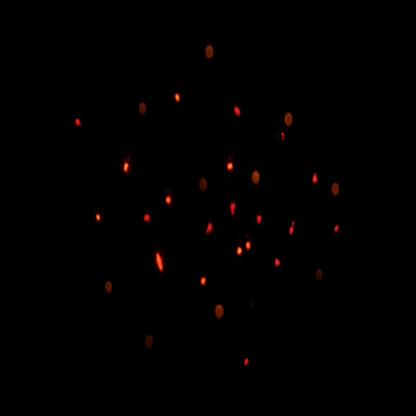PET: (227, 197, 246, 223), (285, 219, 307, 239), (140, 206, 156, 232), (330, 220, 345, 246), (205, 215, 220, 241), (241, 352, 257, 375), (231, 99, 246, 123), (272, 251, 288, 273), (256, 206, 268, 230), (73, 112, 86, 133), (310, 168, 322, 188)
PS: (312, 266, 328, 291), (204, 40, 219, 63), (281, 106, 296, 129), (143, 330, 156, 356), (214, 301, 228, 324), (103, 278, 117, 300), (252, 165, 265, 188), (200, 173, 212, 195), (330, 179, 344, 197), (139, 99, 151, 118)
PVC: (152, 247, 169, 277), (121, 152, 138, 181), (91, 204, 109, 230), (224, 151, 238, 181), (197, 267, 212, 295), (163, 185, 176, 216), (174, 84, 186, 113), (235, 244, 245, 263), (245, 238, 253, 258)
